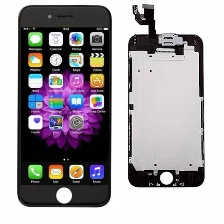phone: (14, 2, 114, 210), (124, 31, 206, 191)
